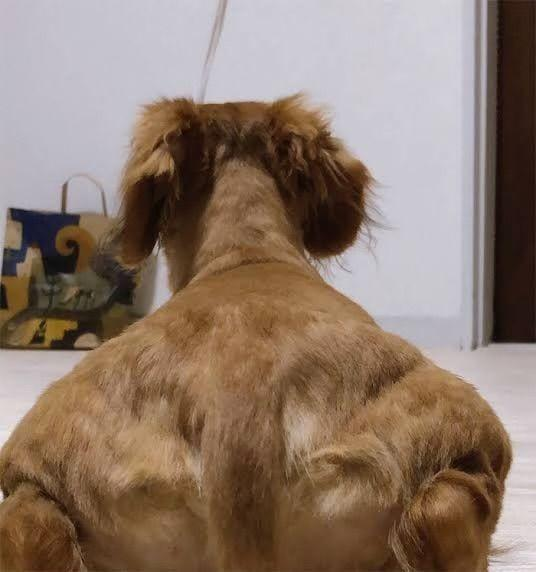adult_dog: (0, 83, 517, 572)
